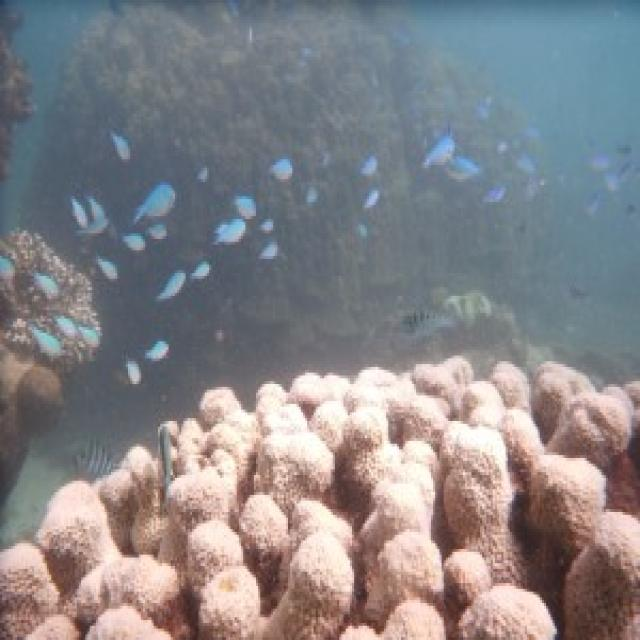Bleached: (1, 359, 639, 638)
Healthy: (1, 231, 101, 504)
